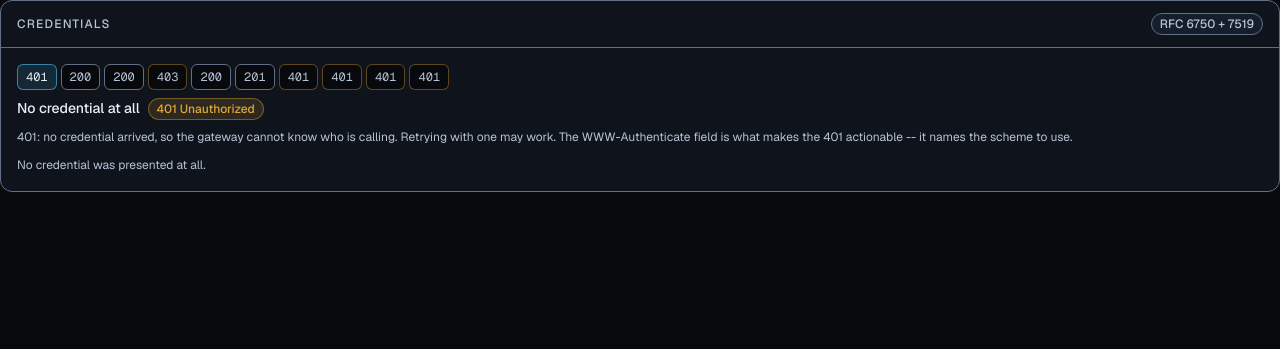
Test: the credential view › names where an API key was put, and what that costs
Click the button named "API key in the query string".
click(124, 77)  # box [104,64,144,90]
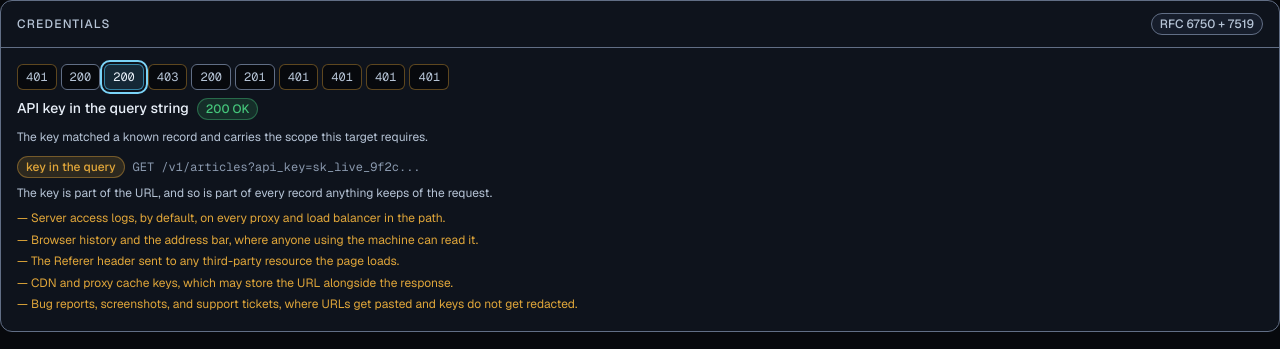
Expected: the text "key in the query" is shown, [17,156,124,178]
Expected: the list item "Browser history" is shown, [31,232,478,248]
